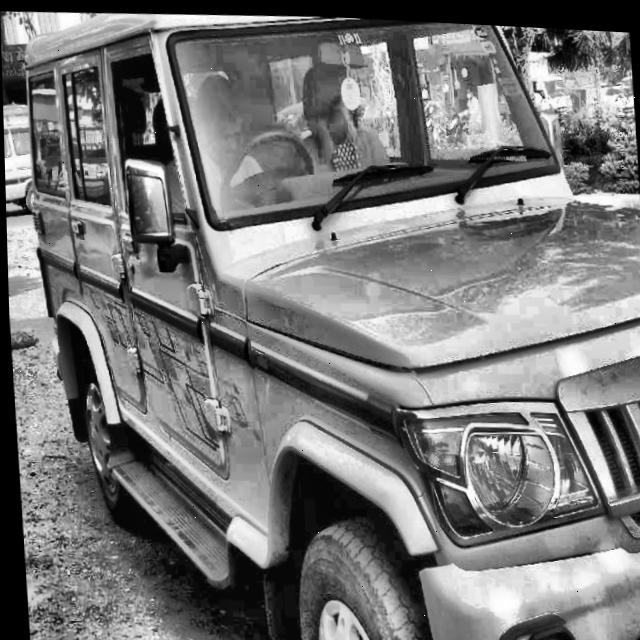light_vehicle: (10, 0, 640, 640)
